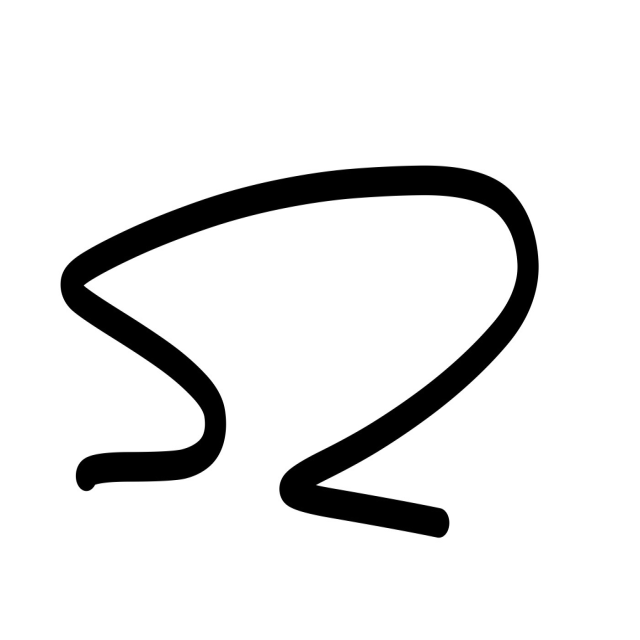ohms: (30, 105, 559, 597)
